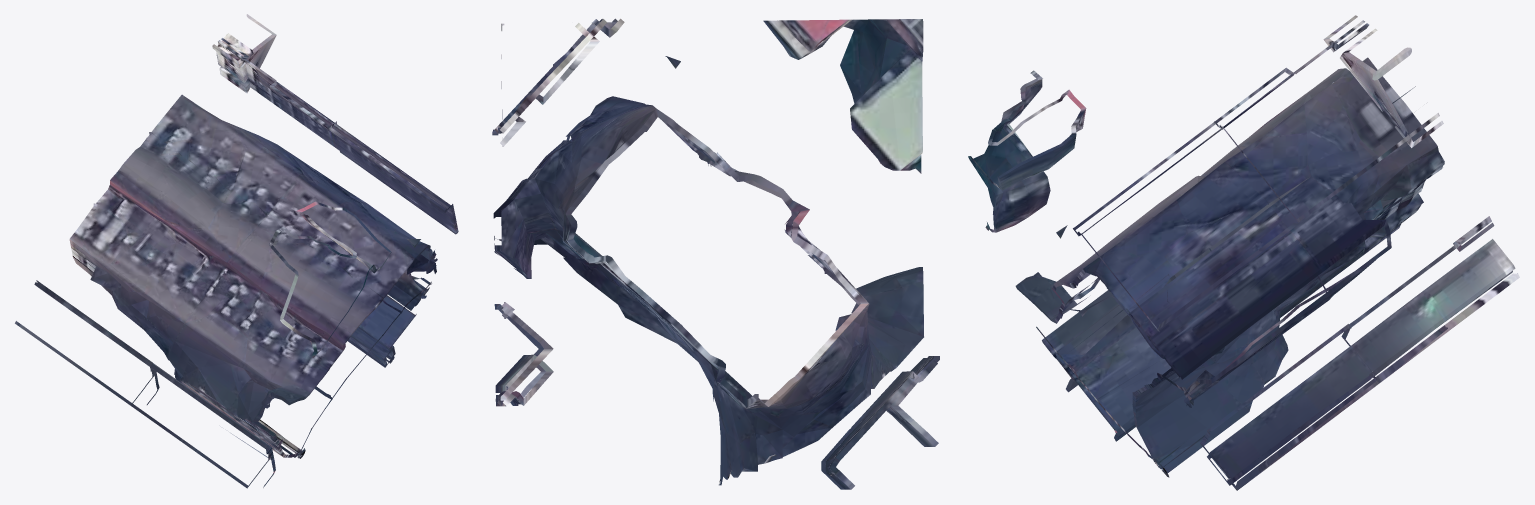
3 views of the same model, side by side, from view 1: azimuth 30°, elevation 25°; view 2: azimuth 150°, elevation 25°; view 3: azimuth 270°, elevation 25° (orthographic). The views are drawn at different scales.
Bounding box in the file's own units: 53.16 × 50.36 × 55.03.
2 materials, 2 textured.
